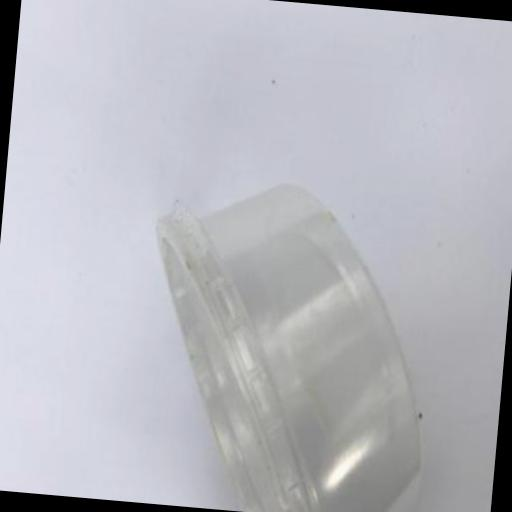plastic: (131, 169, 447, 512)
